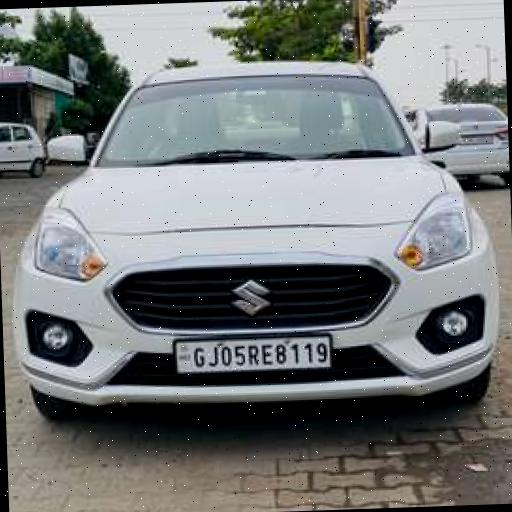license_plate`: (170, 334, 328, 370)
